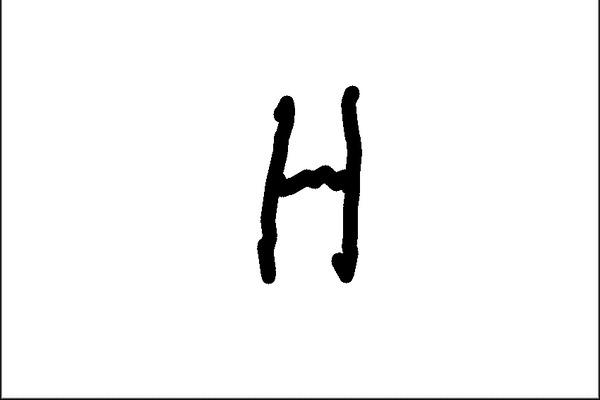H: (252, 82, 366, 290)
